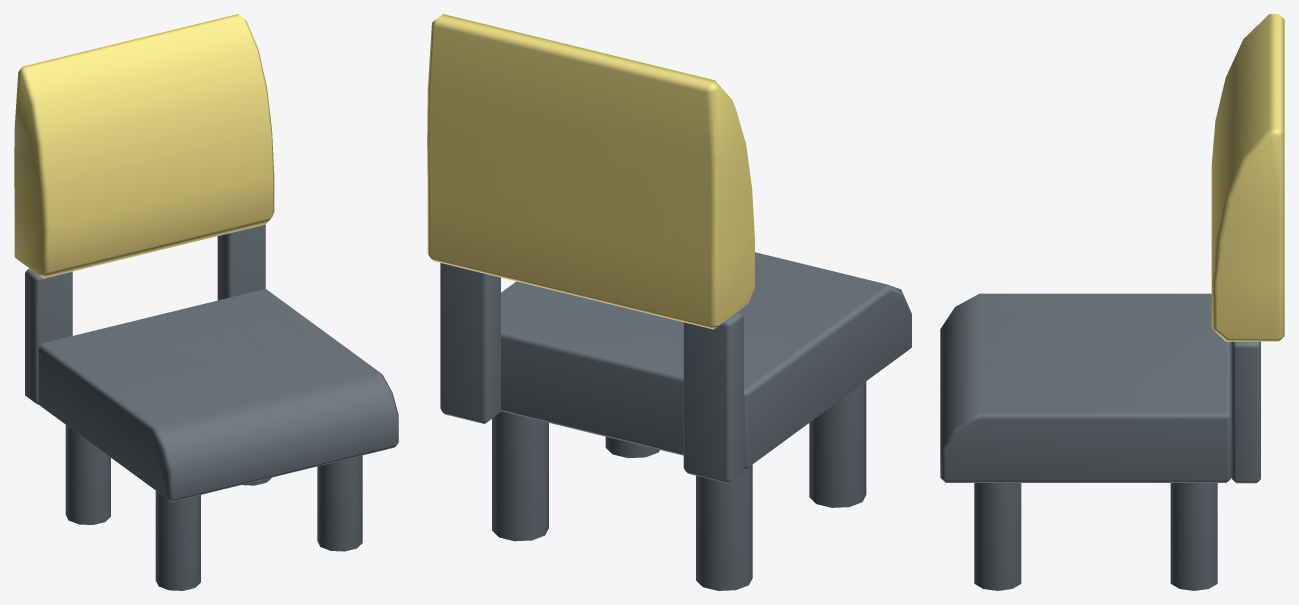
The model's file is Chair_Brown.fbx.
3 views of the same model, side by side, from view 1: azimuth 30°, elevation 25°; view 2: azimuth 150°, elevation 25°; view 3: azimuth 270°, elevation 25° (orthographic). The views are drawn at different scales.
Visible parts, largest first — view 1: Chair_Brown; view 2: Chair_Brown; view 3: Chair_Brown.
Boxes of the visible parts, x1,y1,x2,y2 form: Chair_Brown: [14, 14, 398, 590]; Chair_Brown: [427, 14, 911, 590]; Chair_Brown: [940, 14, 1284, 590].
Bounding box in the file's own units: 72.29 × 127 × 85.
